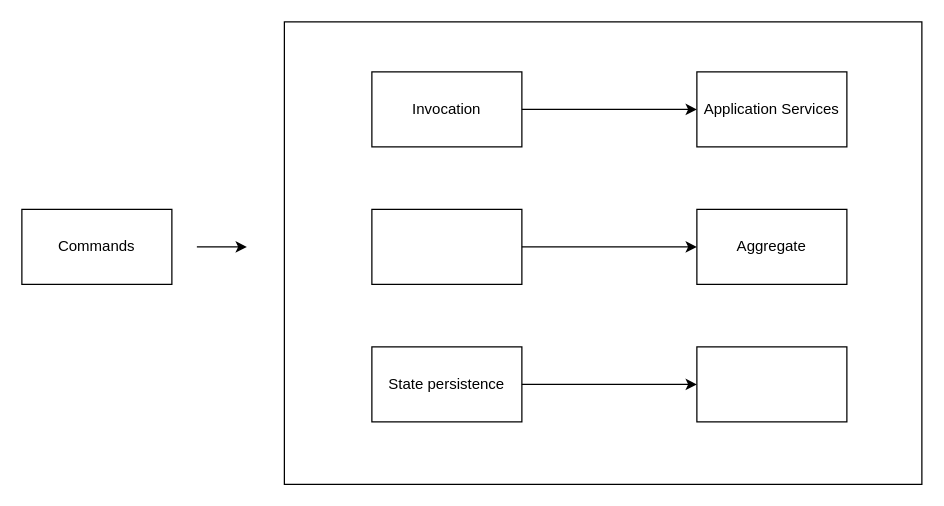
This 944x506 diagram has some shape labels left out. The centre of each missing label's shape, as x and y in pixels:
"JPA Repositories" belongs at point (771, 384).
"State processing" belongs at point (446, 246).
